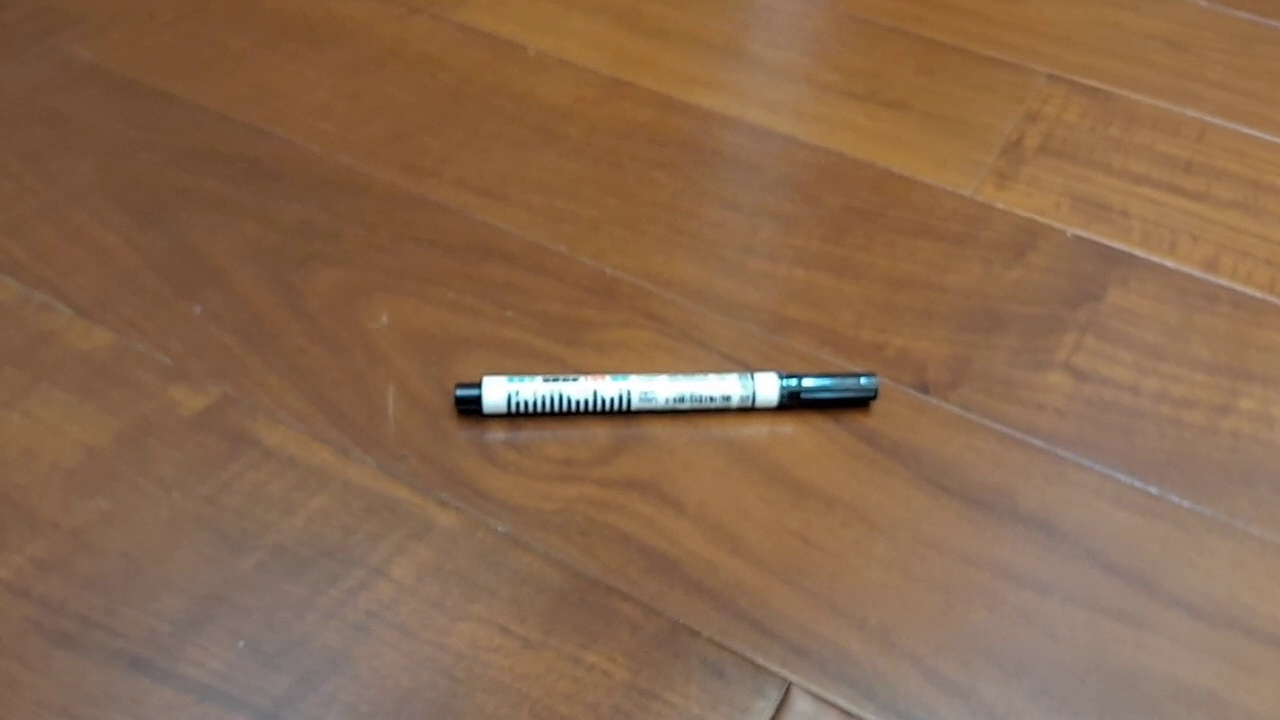pen: (453, 368, 879, 419)
